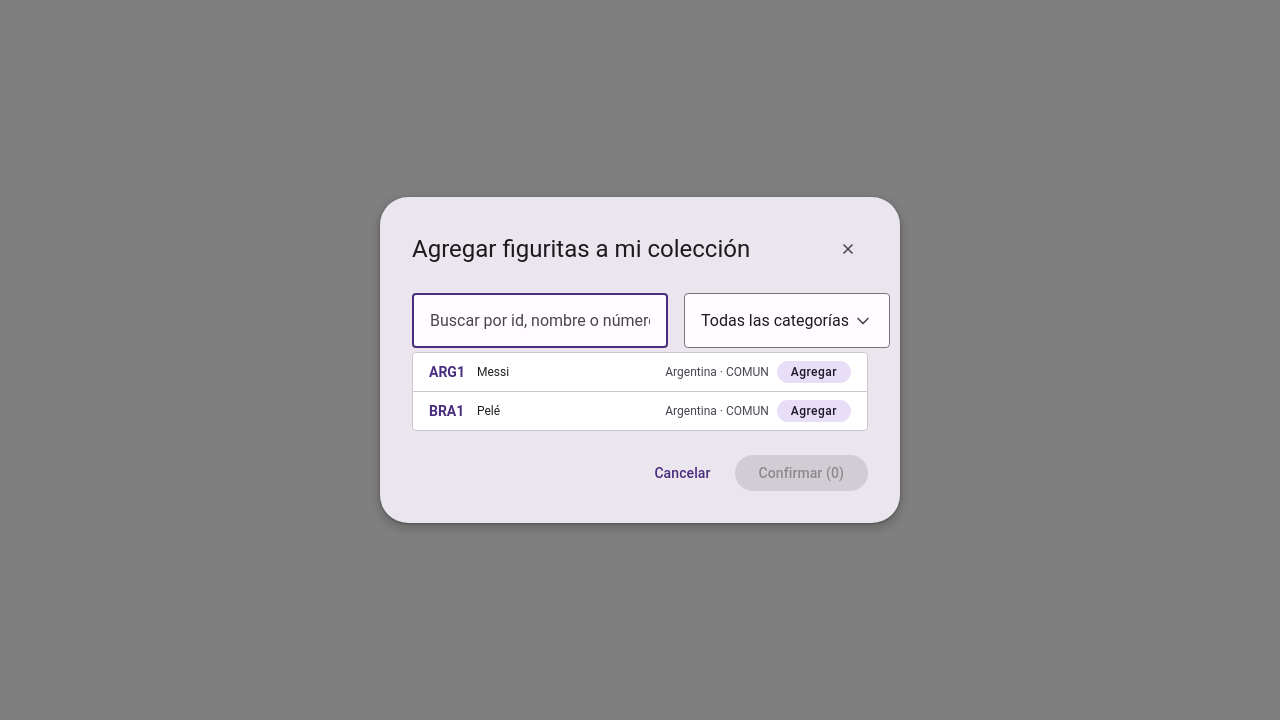
Test: AddToCollectionModal — selección y cantidad › al agregar, la figurita pasa a "Para agregar" y sale del listado de arriba
Check: the text "Messi" is shown, box [477,365,509,379]
Click the button "Agregar" in the row of "Messi": x=814, y=372 [777,361,851,383]
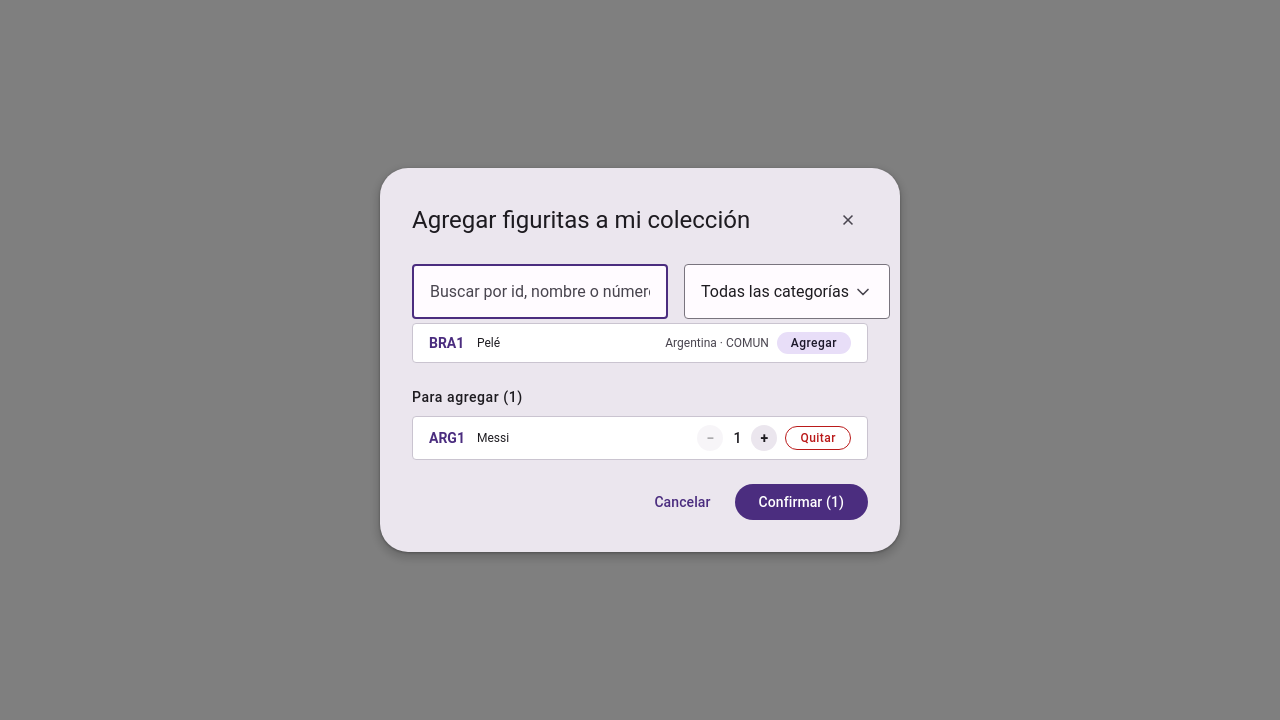
Check: the button "Quitar" is shown, box [785,426,851,450]
Check: the number of buttons "Agregar" is 1, box [777,332,851,354]
Check: the text "Para agregar (1)" is shown, box [412,389,523,405]
